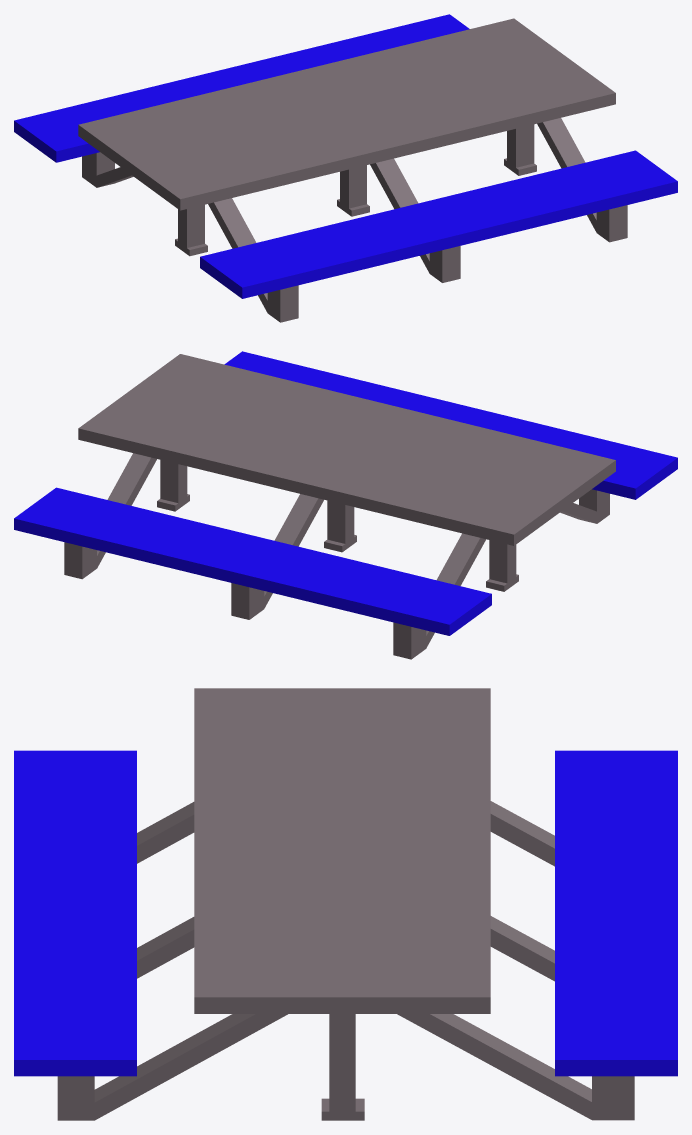
File: tablething.fbx
3 views of the same model, one above another, from view 1: azimuth 30°, elevation 25°; view 2: azimuth 150°, elevation 25°; view 3: azimuth 270°, elevation 25° (orthographic). The views are drawn at different scales.
Visible parts, largest first — view 1: Cube.001, Cube; view 2: Cube.001, Cube; view 3: Cube.001, Cube.
Part boxes in pixels (left/top/right/bottom): Cube.001: left=78, top=18, right=627, bottom=322; Cube: left=14, top=14, right=677, bottom=298; Cube.001: left=64, top=354, right=615, bottom=659; Cube: left=14, top=351, right=677, bottom=635; Cube.001: left=57, top=688, right=634, bottom=1120; Cube: left=14, top=750, right=677, bottom=1076.
Size of the model in its own units: 693 by 155 by 629.
